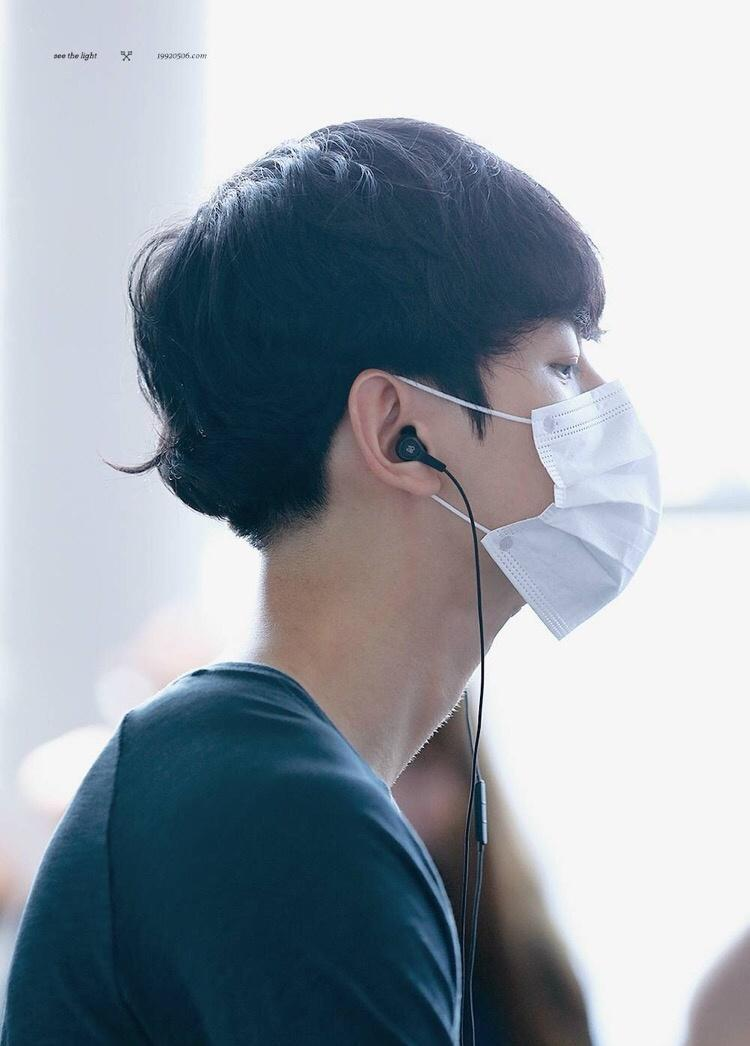OK: (293, 275, 657, 639)
